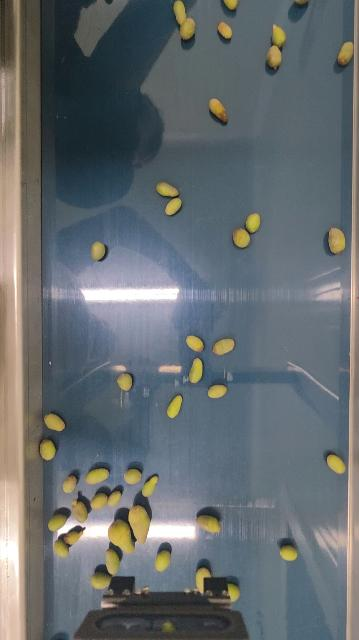Baby Potato: (127, 504, 152, 545), (109, 518, 136, 554), (208, 97, 230, 124), (328, 226, 347, 254), (196, 514, 222, 534), (212, 336, 236, 357), (104, 548, 121, 576), (188, 357, 205, 385), (179, 16, 198, 41), (156, 180, 181, 199), (337, 40, 355, 66), (44, 411, 66, 432), (327, 452, 347, 475), (85, 467, 110, 485), (166, 394, 183, 420), (47, 511, 68, 532), (71, 499, 89, 523), (265, 45, 283, 69), (232, 227, 251, 249), (164, 195, 183, 217), (39, 438, 57, 461), (90, 240, 108, 263), (155, 549, 172, 573), (173, 0, 189, 24), (116, 372, 135, 392), (63, 527, 84, 545), (245, 211, 262, 233), (272, 23, 288, 46), (186, 334, 205, 353), (91, 572, 112, 589), (90, 491, 108, 510), (280, 543, 299, 561), (207, 383, 228, 399), (143, 475, 158, 497), (124, 467, 141, 485), (217, 20, 233, 39), (53, 540, 69, 558), (107, 489, 122, 508), (62, 475, 77, 494), (227, 582, 241, 602), (220, 0, 240, 11), (196, 566, 212, 578), (292, 0, 316, 4)
